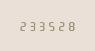eight: (68, 20, 77, 31)
five: (48, 20, 57, 31)
three: (27, 20, 36, 31), (38, 20, 47, 31)
two: (17, 20, 26, 31), (58, 20, 67, 31)
